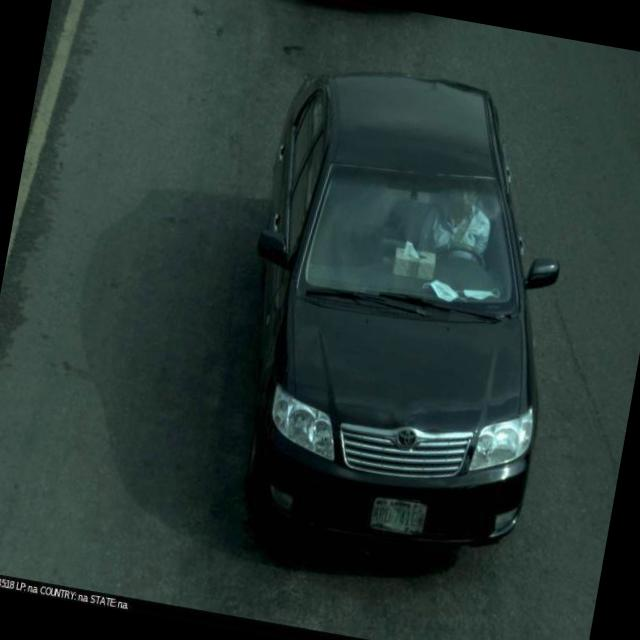person_with_seatbelt: (411, 168, 506, 278)
